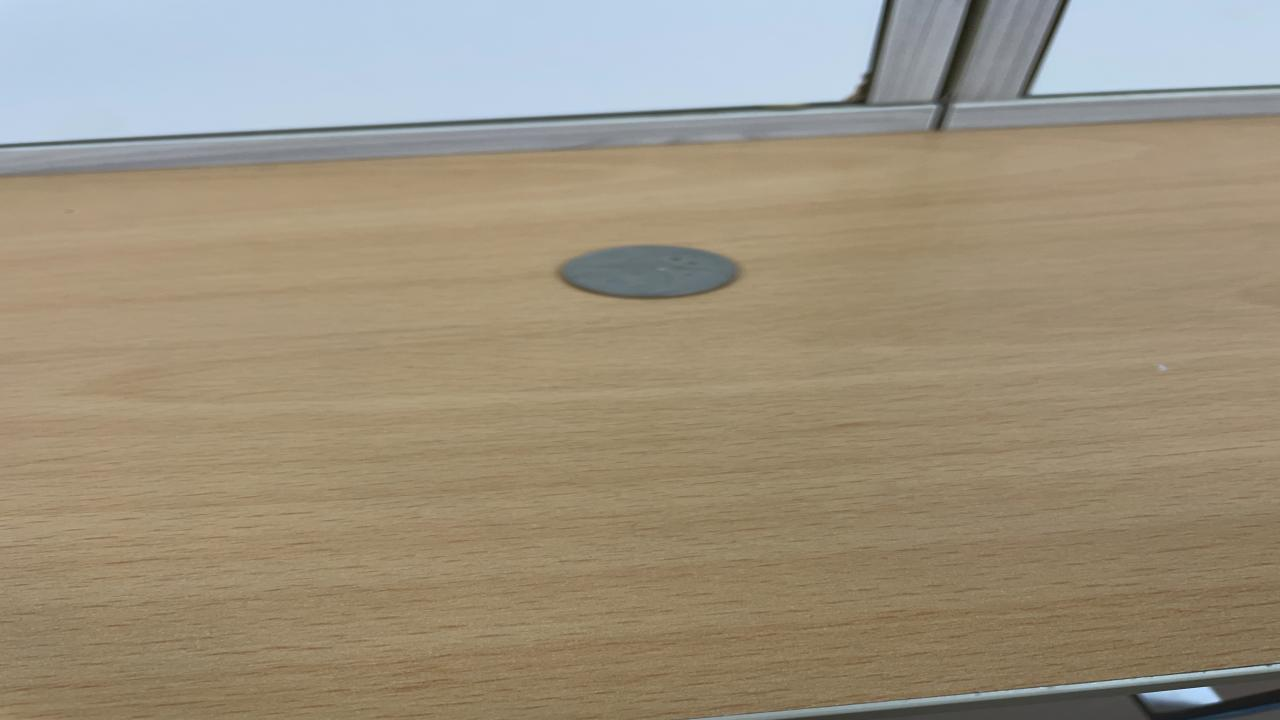coin: (550, 241, 743, 301)
